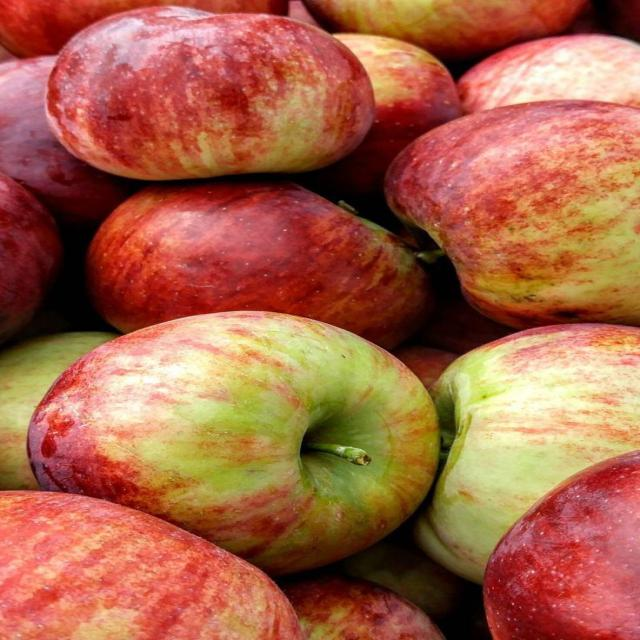apple: (29, 312, 439, 575), (87, 178, 432, 348), (415, 325, 639, 582), (387, 101, 639, 328), (47, 7, 374, 180), (0, 492, 303, 639), (485, 451, 639, 639), (305, 34, 463, 202), (0, 57, 135, 227), (0, 332, 117, 490), (304, 0, 586, 60), (0, 0, 287, 57), (327, 521, 468, 623), (458, 34, 639, 113), (0, 174, 62, 343), (282, 575, 444, 639), (415, 290, 514, 353), (394, 344, 459, 388), (596, 0, 639, 41), (564, 0, 611, 34), (287, 0, 319, 26), (0, 46, 13, 62)
